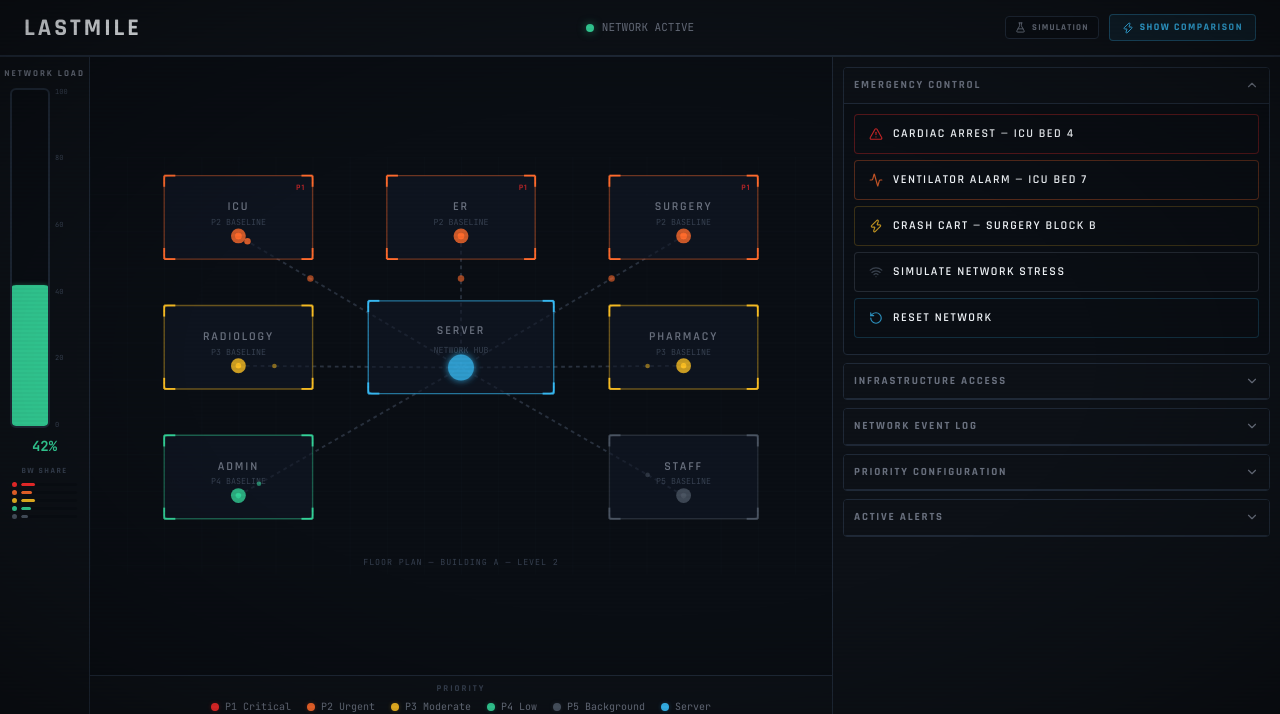
Test: App › reports degraded rather than total failure when one node is killed
This screenshot has width=1280, height=714.
Click the button "Infrastructure Access" at (930, 380), box [844,364,1269,399]
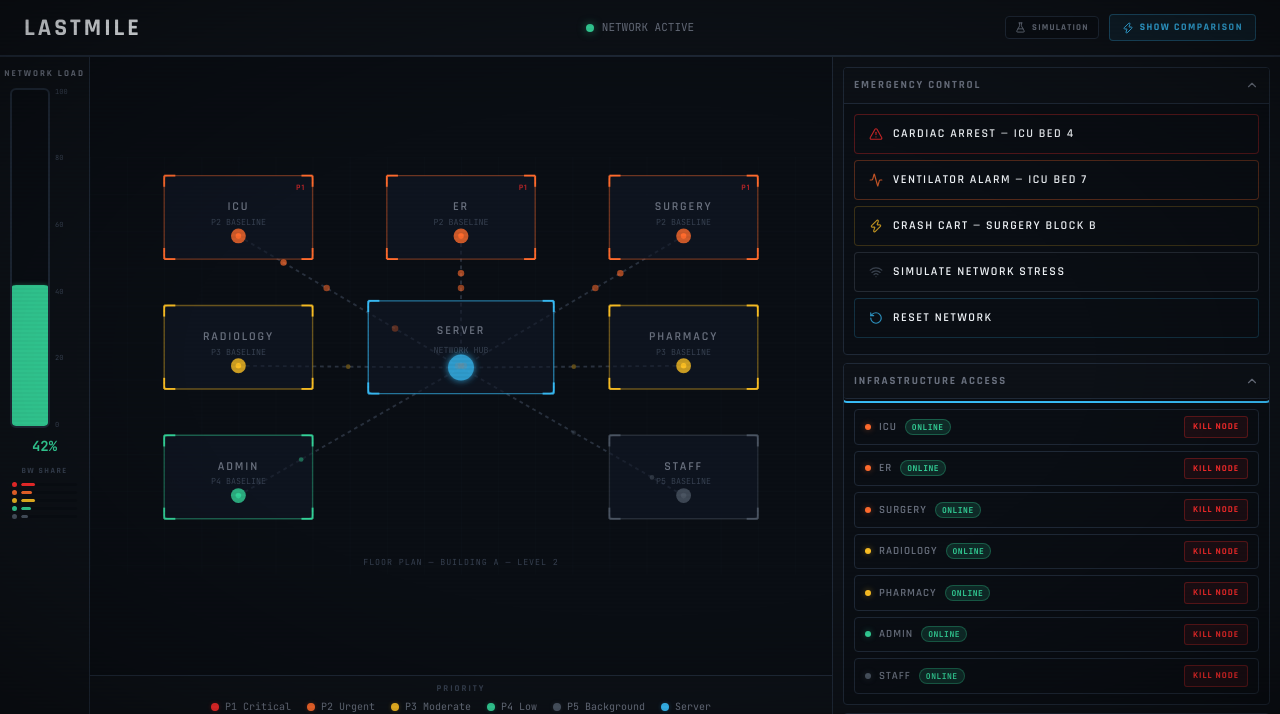
Click the button with aria-label "take offline ADMIN node" at (1216, 634), box [1184,624,1248,645]
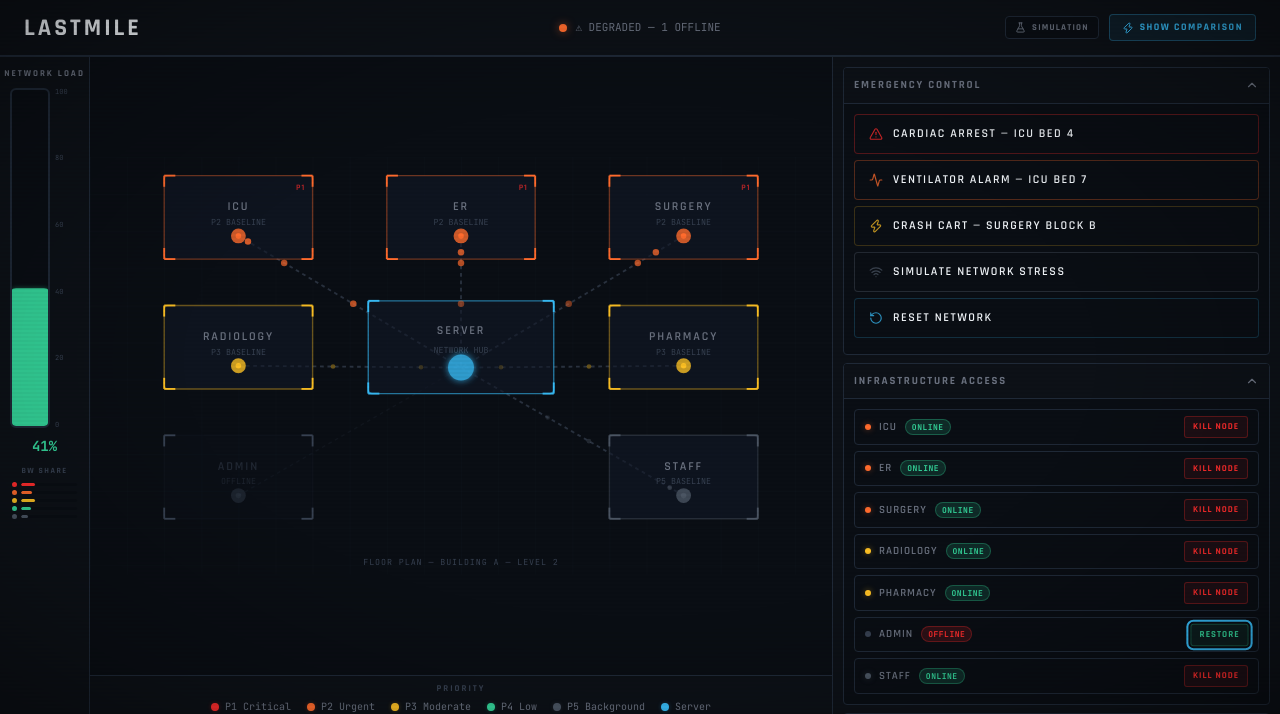
expect the message shows "DEGRADED — 1 OFFLINE": met, box [575,20,721,34]
